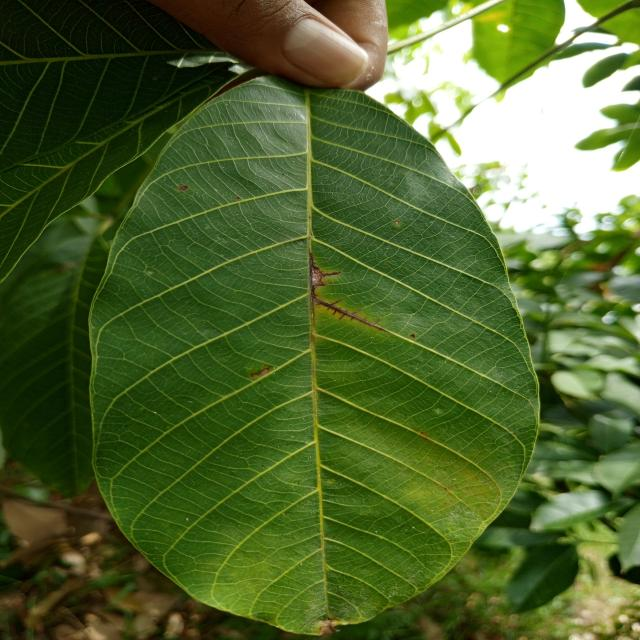Colletotrichum: (410, 333, 415, 338)
Corynespora: (313, 297, 386, 332), (308, 252, 342, 298)
